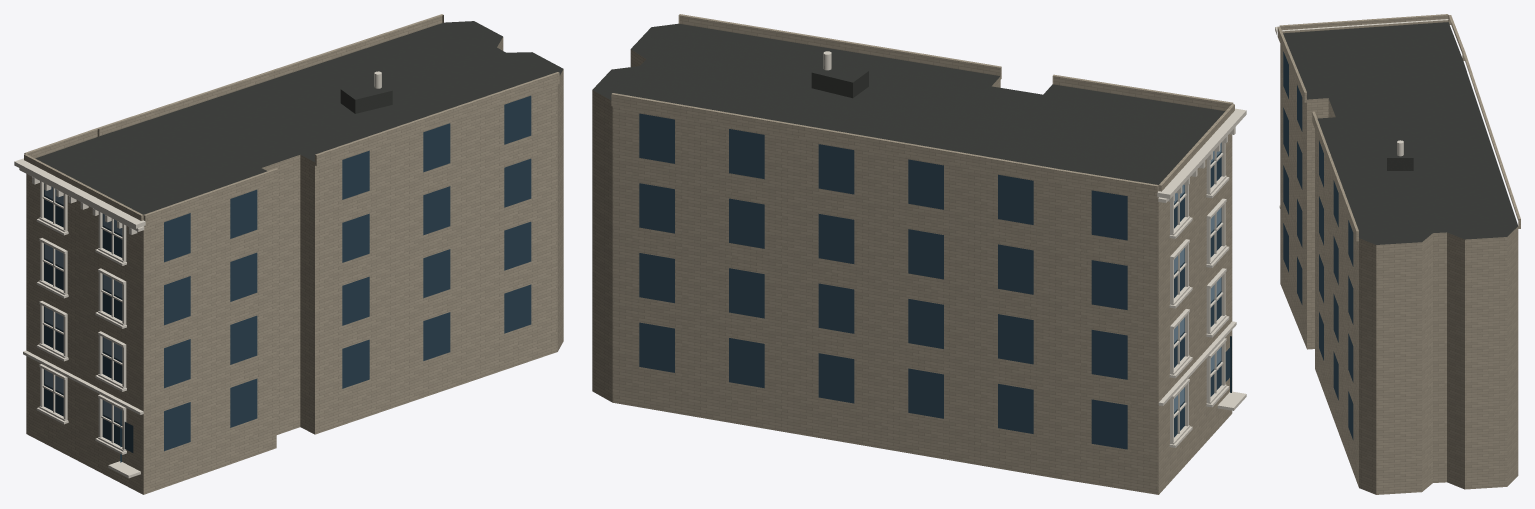
3 renders of one model, left to right at view 1: azimuth 30°, elevation 25°; view 2: azimuth 150°, elevation 25°; view 3: azimuth 270°, elevation 25°, orthographic. The views are drawn at different scales.
Visible parts, largest first — view 1: Footprint 0 / surface 2, Footprint 0 / surface 1, Inset glazing, Facade bay volumes, Cornices and window frames, Sky reflection panels; view 2: Footprint 0 / surface 2, Footprint 0 / surface 1, Inset glazing, Facade bay volumes, Cornices and window frames, Sky reflection panels; view 3: Footprint 0 / surface 2, Footprint 0 / surface 1, Inset glazing, Facade bay volumes, Inferred rooftop service enclosure / surface 3, Inferred rooftop service enclosure / surface 1, Cornices and window frames.
Boxes of the visible parts, <box> form: Footprint 0 / surface 2: <box>26,37,563,494</box>; Footprint 0 / surface 1: <box>35,21,563,214</box>; Inset glazing: <box>44,95,531,452</box>; Facade bay volumes: <box>24,14,559,226</box>; Cornices and window frames: <box>14,158,145,478</box>; Sky reflection panels: <box>44,187,122,423</box>; Footprint 0 / surface 2: <box>592,49,1232,494</box>; Footprint 0 / surface 1: <box>592,23,1224,184</box>; Inset glazing: <box>639,113,1230,449</box>; Facade bay volumes: <box>611,14,1234,198</box>; Cornices and window frames: <box>1157,108,1246,447</box>; Sky reflection panels: <box>1174,143,1221,412</box>; Footprint 0 / surface 2: <box>1280,44,1518,494</box>; Footprint 0 / surface 1: <box>1283,22,1517,244</box>; Inset glazing: <box>1283,51,1353,439</box>; Facade bay volumes: <box>1277,14,1520,241</box>; Inferred rooftop service enclosure / surface 3: <box>1387,141,1413,157</box>; Inferred rooftop service enclosure / surface 1: <box>1387,158,1413,170</box>; Cornices and window frames: <box>1275,19,1448,208</box>.
Size of the model in its own units: 24.46 by 13.8 by 11.14.
